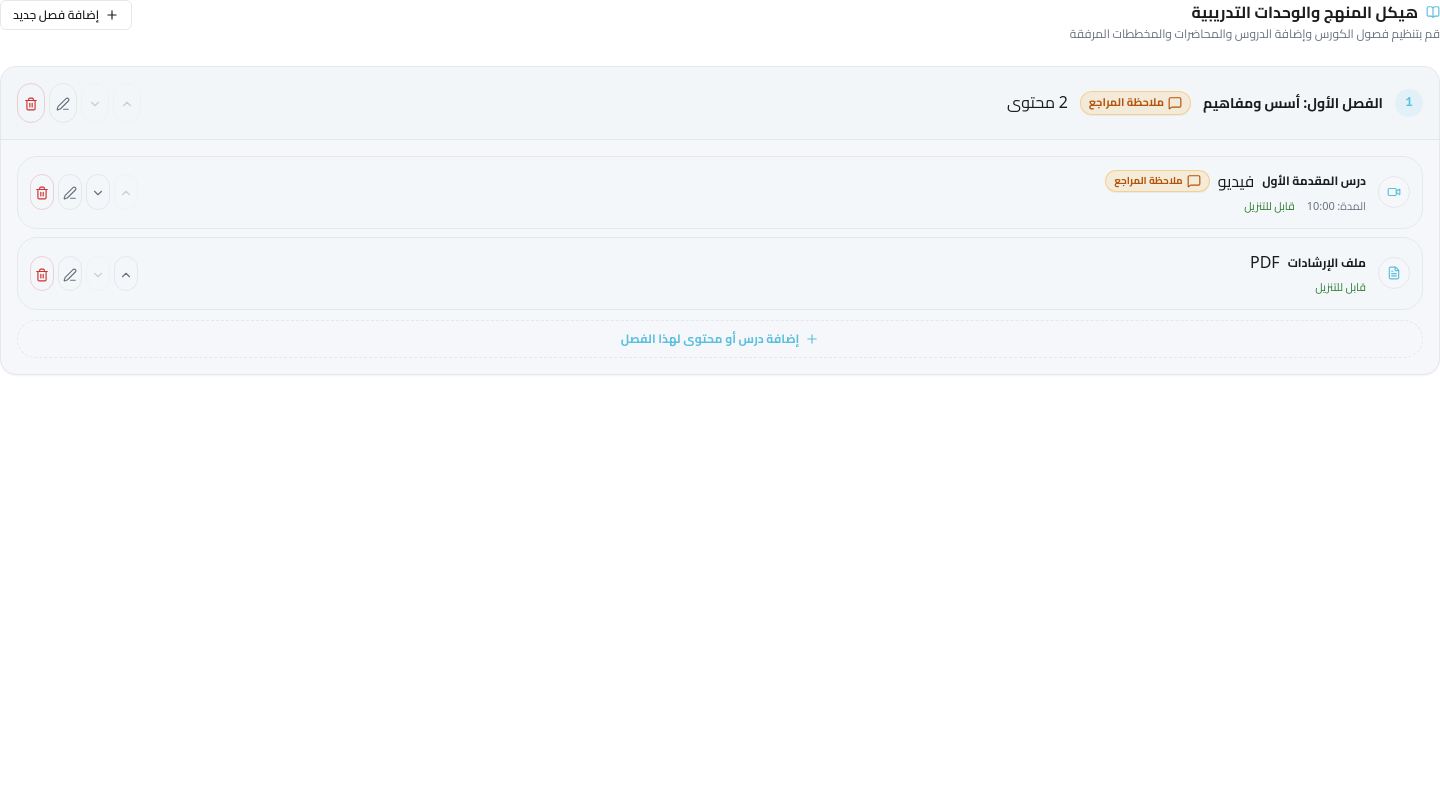
Test: Increment 9 — Phase 7: Lecturer Course Builder Feedback & Dual-Snapshot Diff Viewer › 3. Contextual Item/Chapter Feedback in CurriculumTreeEditor › renders contextual feedback badge on targeted chapters and items
Expected: the button with test id "item-feedback-badge-ITM01" is shown, [1105,170,1210,192]
Click chapter feedback badge to inspect comment modal
Step 1. Click the button with test id "chapter-feedback-badge-CH01" → (1135, 103), box [1080,91,1191,115]
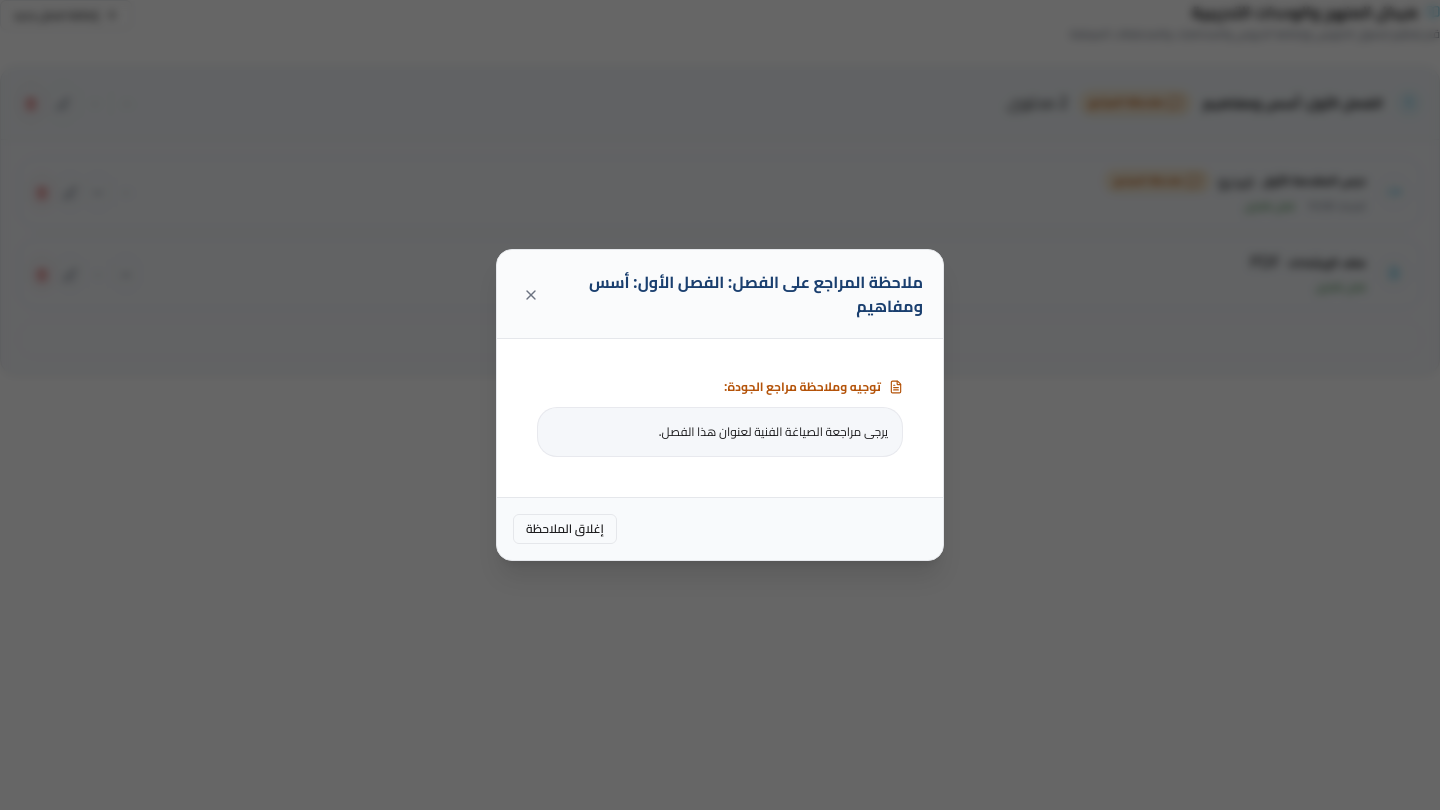
Now the dialog with test id "contextual-feedback-modal" is shown
Now the text with test id "contextual-feedback-comment" reads "يرجى مراجعة الصياغة الفنية لعنوان هذا الفصل.", box [658,420,888,443]
Close modal
Step 2. Click the button with test id "close-contextual-feedback-btn" → (565, 529), box [513,514,617,544]
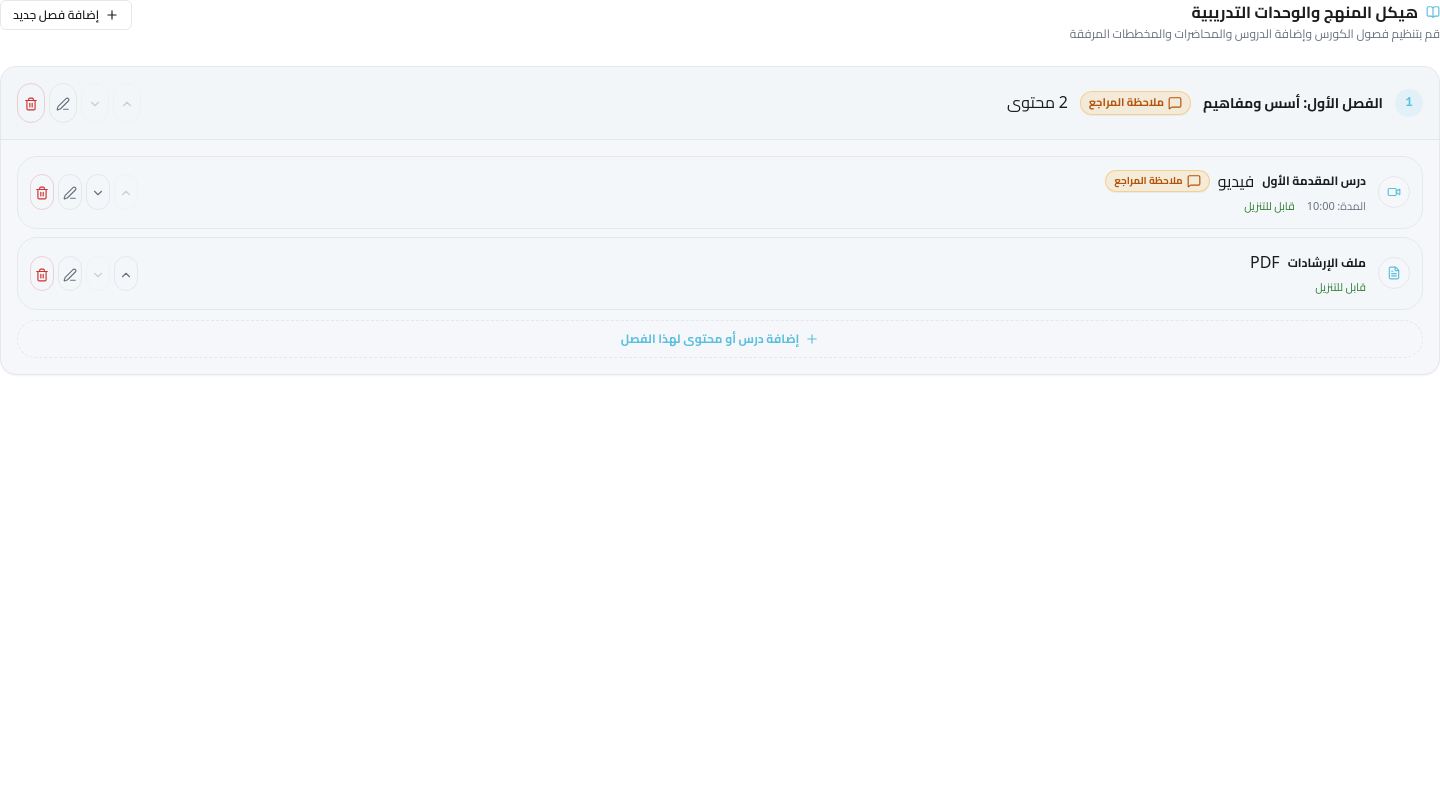
Now the dialog with test id "contextual-feedback-modal" is gone
Click lesson item feedback badge
Step 3. Click the button with test id "item-feedback-badge-ITM01" → (1158, 181), box [1105,170,1210,192]
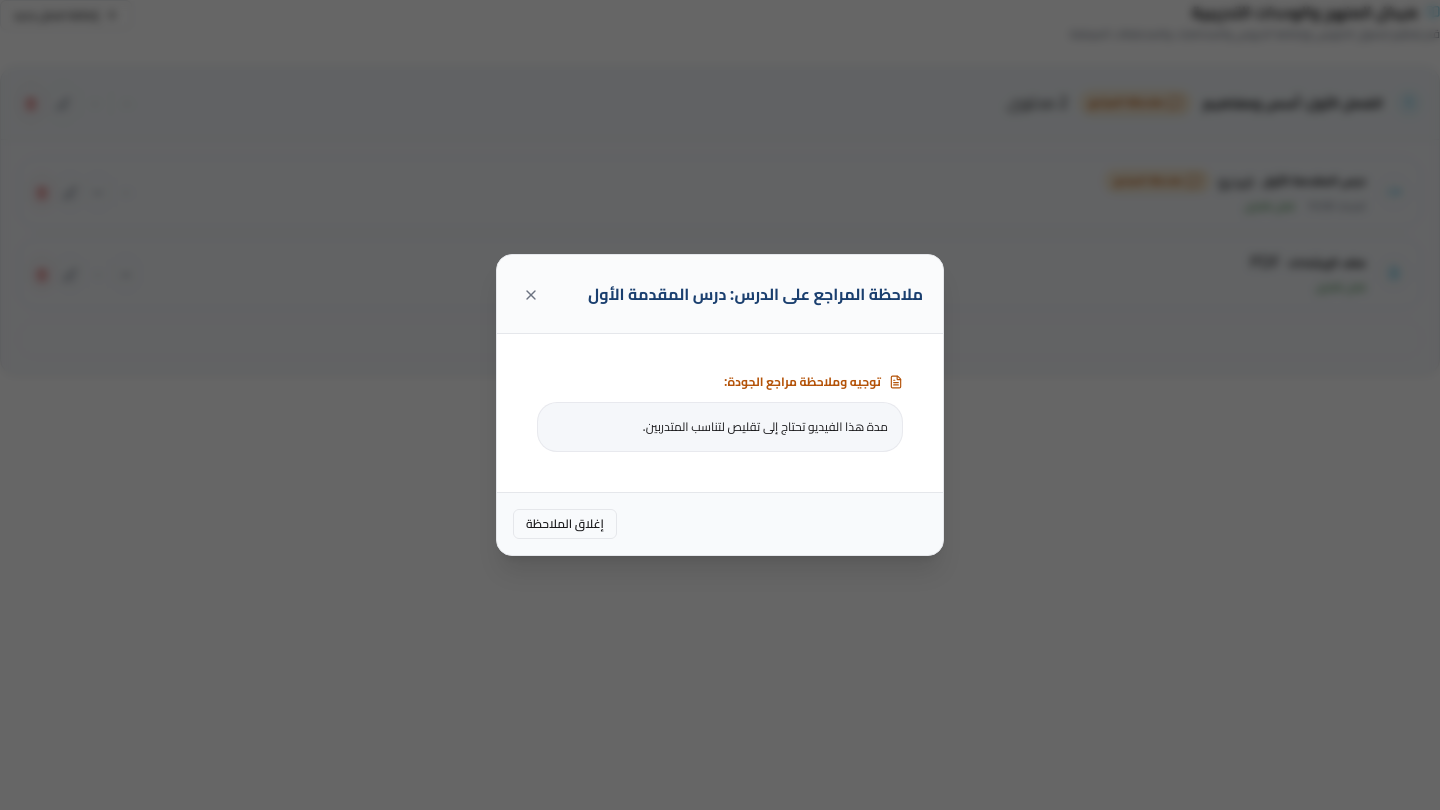
Now the dialog with test id "contextual-feedback-modal" is shown
Now the text with test id "contextual-feedback-comment" reads "مدة هذا الفيديو تحتاج إلى تقليص لتناسب المتدربين.", box [642,415,888,438]
